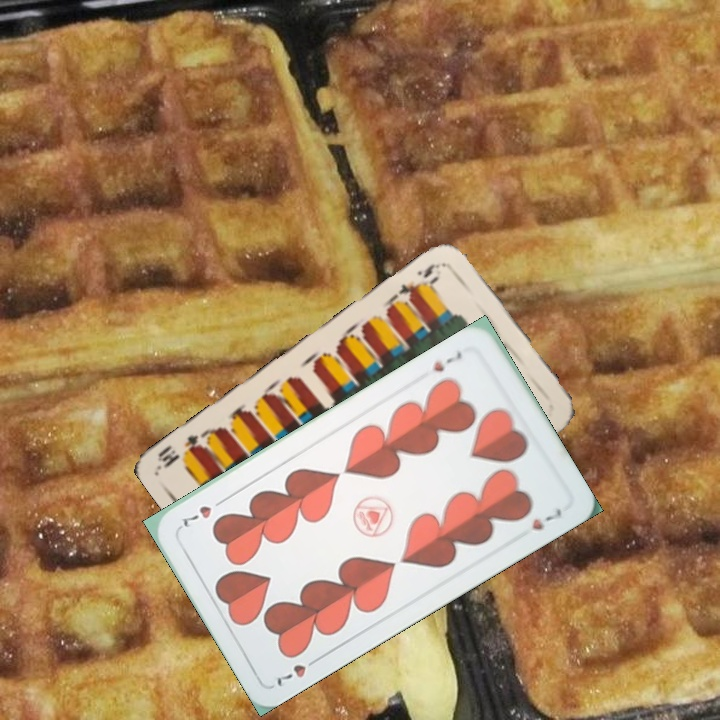E10: (393, 259, 447, 303)
H7: (272, 652, 323, 689), (429, 347, 465, 375)
